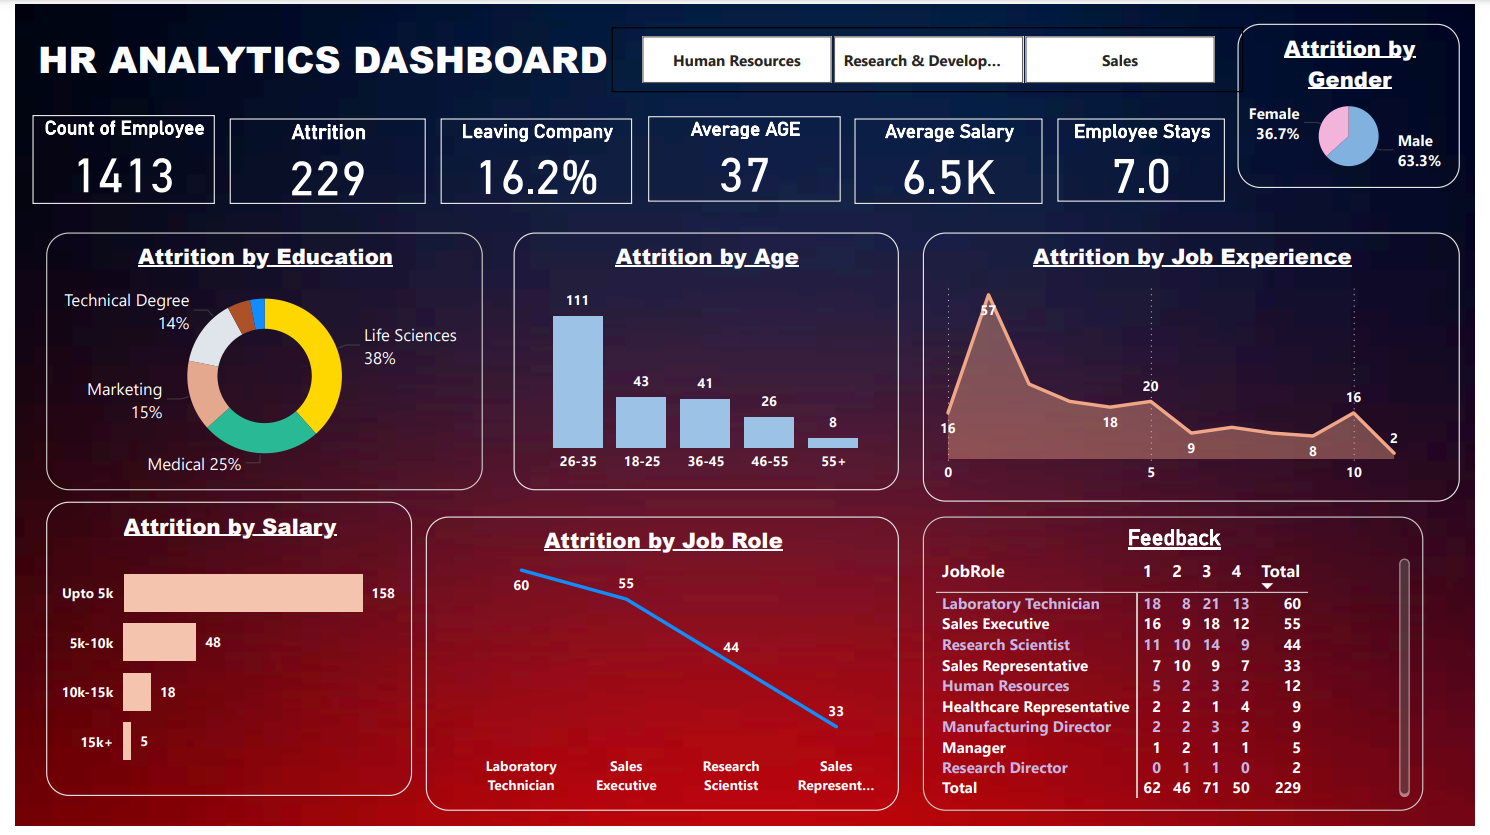

The dashboard page shown, as its layout file describes it:
{"tool":"powerbi","page":{"name":"Page 1","canvas":[1280,720],"ordinal":0},"visuals":[{"type":"card","title":"Count of Employee","fields":{"Values":["CountNonNull(HR_Analytics (2).EmpID)"]},"box":[14.8,96.8,160,78],"z":0},{"type":"card","title":"Average AGE","fields":{"Values":["Avg(HR_Analytics (2).Age)"]},"box":[555.4,98.2,168.1,75.3],"z":1000},{"type":"card","title":"Attrition ","fields":{"Values":["Sum(HR_Analytics (2).a_C)"]},"box":[188.3,99.5,172.1,75.3],"z":2000},{"type":"card","title":"Leaving Company","fields":{"Values":["HR_Analytics (2).Att_rate"]},"box":[372.5,99.5,168.1,75.3],"z":3000},{"type":"card","title":"Average Salary","fields":{"Values":["Avg(HR_Analytics (2).MonthlyIncome)"]},"box":[735.6,99.5,165.4,75.3],"z":4000},{"type":"card","title":"Employee Stays","fields":{"Values":["Avg(HR_Analytics (2).YearsAtCompany)"]},"box":[914.5,99.5,146.6,74],"z":5000},{"type":"donutChart","title":"Attrition by Education","fields":{"Category":["HR_Analytics (2).EducationField"],"Y":["Sum(HR_Analytics (2).a_C)"]},"box":[26.9,200.4,383.3,225.9],"z":6000},{"type":"columnChart","title":"Attrition by Age","fields":{"Y":["Sum(HR_Analytics (2).a_C)"],"Category":["HR_Analytics (2).AgeGroup"]},"box":[437.1,200.4,337.6,225.9],"z":7000},{"type":"pivotTable","title":"Feedback","fields":{"Rows":["HR_Analytics (2).JobRole"],"Columns":["HR_Analytics (2).JobSatisfaction"],"Values":["Sum(HR_Analytics (2).a_C)"]},"box":[796.1,449.2,438.4,258.2],"z":8000},{"type":"barChart","title":"Attrition by Salary","fields":{"Category":["HR_Analytics (2).SalarySlab"],"Y":["Sum(HR_Analytics (2).a_C)"]},"box":[26.9,435.7,321.4,258.2],"z":9000},{"type":"lineChart","title":"Attrition by Job Role","fields":{"Category":["HR_Analytics (2).JobRole"],"Y":["Sum(HR_Analytics (2).a_C)"]},"box":[360.4,449.2,414.2,258.2],"z":10000},{"type":"areaChart","title":"Attrition by Job Experience","fields":{"Category":["HR_Analytics (2).YearsAtCompany"],"Y":["Sum(HR_Analytics (2).a_C)"]},"box":[796.1,200.4,470.7,235.3],"z":11000},{"type":"pieChart","title":"Attrition by Gender","fields":{"Category":["HR_Analytics (2).Gender"],"Y":["Sum(HR_Analytics (2).a_C)"]},"box":[1071.8,17.5,195,143.9],"z":12000},{"type":"slicer","fields":{"Values":["HR_Analytics (2).Department"]},"box":[523.1,20.2,554.1,56.5],"z":13000},{"type":"textbox","box":[14.8,20.2,523.1,61.9],"z":14000}]}

Visuals, with their boxes in screenshot pixels (x1, y1, x2, y2), scaled from the page's 1280x720 canvas onto the 1490x835 screenshot:
"Count of Employee" card: (left=17, top=112, right=203, bottom=203)
"Average AGE" card: (left=647, top=114, right=842, bottom=201)
"Attrition " card: (left=219, top=115, right=420, bottom=203)
"Leaving Company" card: (left=434, top=115, right=629, bottom=203)
"Average Salary" card: (left=856, top=115, right=1049, bottom=203)
"Employee Stays" card: (left=1065, top=115, right=1235, bottom=201)
"Attrition by Education" donutChart: (left=31, top=232, right=477, bottom=494)
"Attrition by Age" columnChart: (left=509, top=232, right=902, bottom=494)
"Feedback" pivotTable: (left=927, top=521, right=1437, bottom=820)
"Attrition by Salary" barChart: (left=31, top=505, right=405, bottom=805)
"Attrition by Job Role" lineChart: (left=420, top=521, right=902, bottom=820)
"Attrition by Job Experience" areaChart: (left=927, top=232, right=1475, bottom=505)
"Attrition by Gender" pieChart: (left=1248, top=20, right=1475, bottom=187)
slicer - HR_Analytics (2).Department: (left=609, top=23, right=1254, bottom=89)
textbox: (left=17, top=23, right=626, bottom=95)
